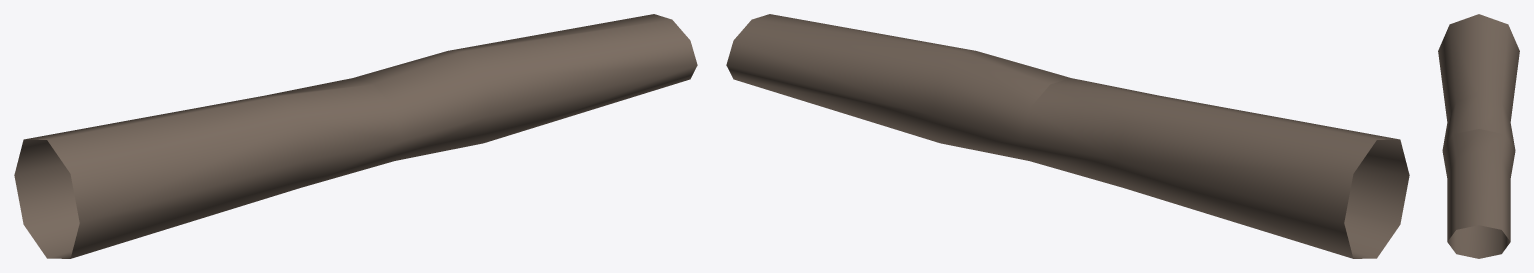
Rendered from braç1.fbx.
The picture shows the model from 3 angles, left to right: view 1: azimuth 30°, elevation 25°; view 2: azimuth 150°, elevation 25°; view 3: azimuth 270°, elevation 25°; orthographic projection. The views are drawn at different scales.
Visible parts, largest first — view 1: braç1; view 2: braç1; view 3: braç1.
Part boxes in pixels (x1=…): braç1: x1=14, y1=14, x2=697, y2=258; braç1: x1=726, y1=14, x2=1409, y2=258; braç1: x1=1438, y1=14, x2=1519, y2=258.
Bounding box in the file's own units: 141 × 25.59 × 25.59.
